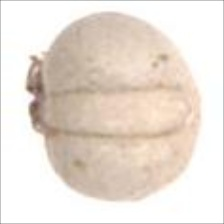L5: (41, 84, 200, 140), (24, 52, 53, 138), (187, 83, 204, 137)
L6: (24, 10, 203, 205)
